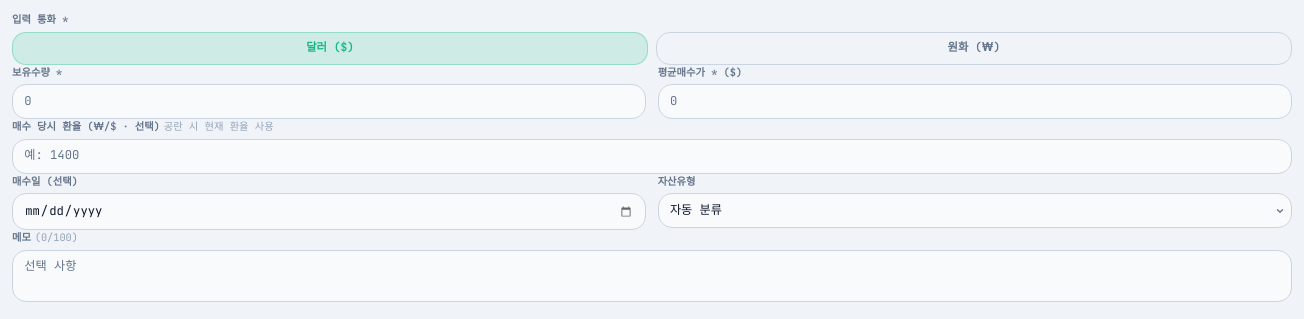
Test case: 매수 정보 입력 폼 › 달러로 입력할 때만 매수 당시 환율을 묻는다
Expected: the text "매수 당시 환율 (₩/$ · 선택)공란 시 현재 환율 사용" is shown, [12,119,274,133]
Note: 원화로 바꾸면 사라진다 (원화 금액에는 환율을 다시 곱하면 안 되므로)
Click the button "원화 (₩)". click: coordinates (974, 48)
box: [656,32,1292,65]
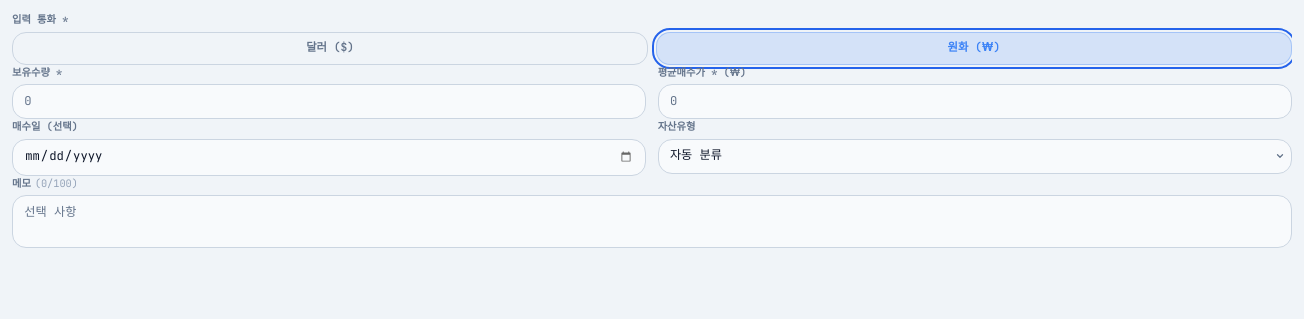
Now the text "매수 당시 환율" is gone
